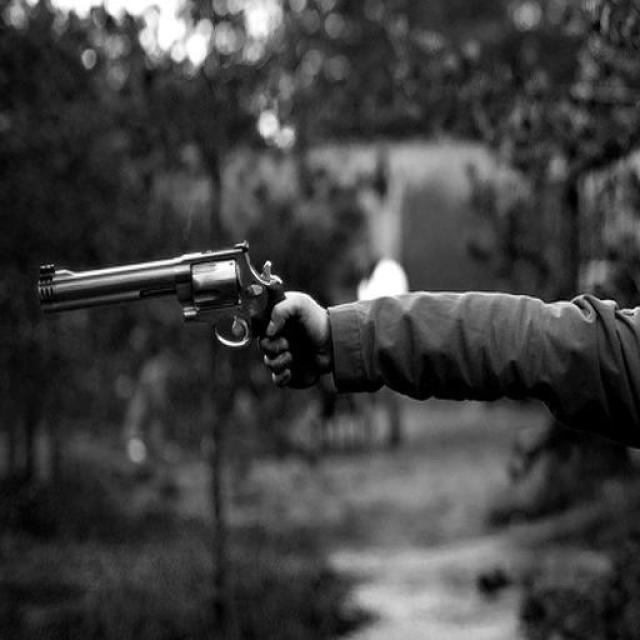pistol: (37, 240, 305, 392)
